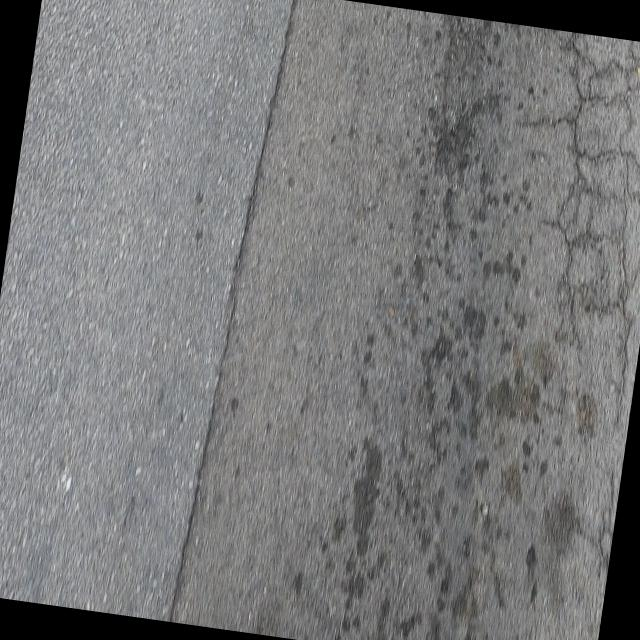Retak-Buaya: (556, 33, 640, 347)
Retak-Memanjang: (165, 0, 300, 623), (614, 301, 635, 428)
